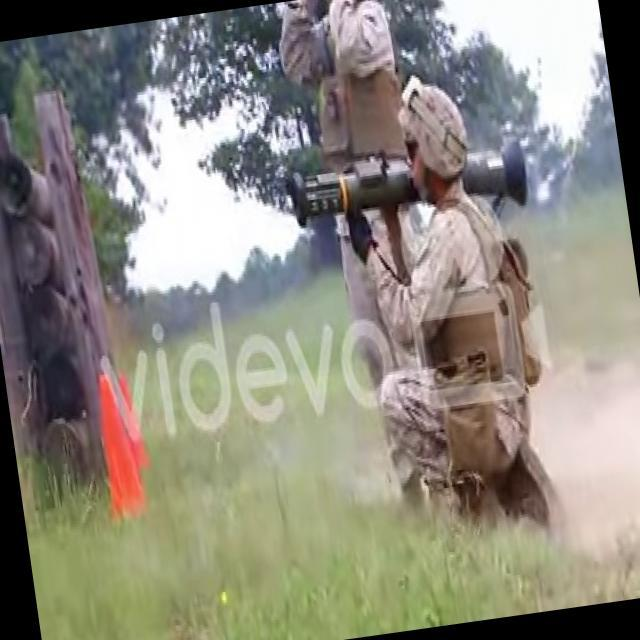rocket: (286, 127, 526, 233)
